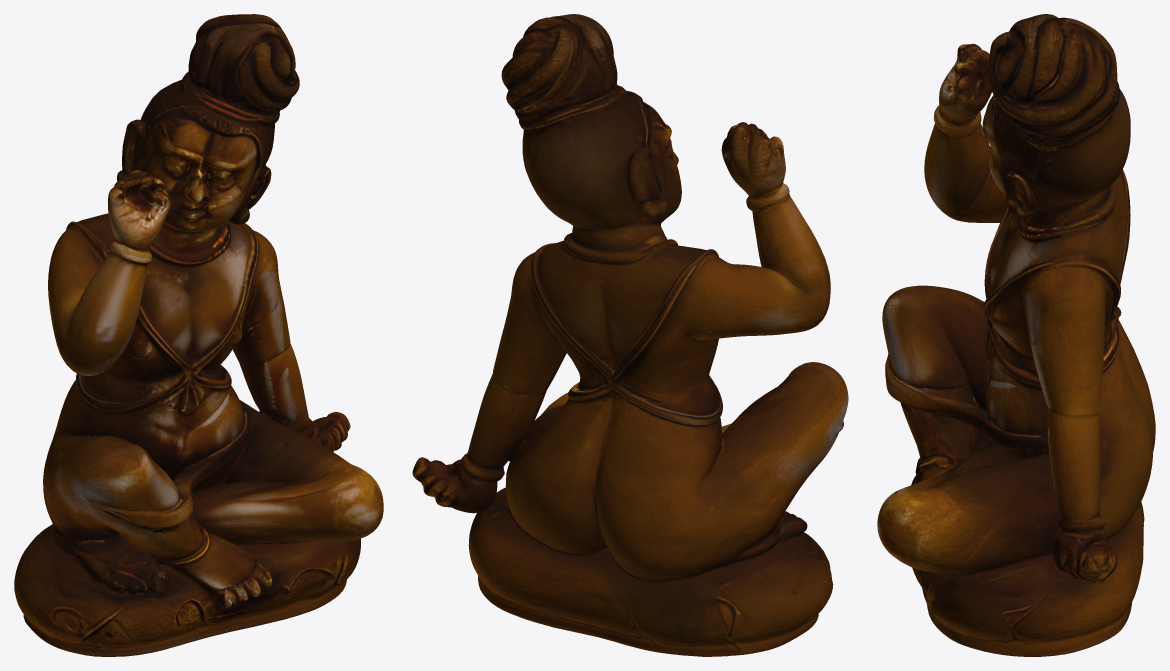
3 views of the same model, side by side, from view 1: azimuth 30°, elevation 25°; view 2: azimuth 150°, elevation 25°; view 3: azimuth 270°, elevation 25° (orthographic). The views are drawn at different scales.
Visible parts, largest first — view 1: textured_mesh; view 2: textured_mesh; view 3: textured_mesh.
Part boxes in pixels (x1,y1,x2,y2): textured_mesh: [14, 14, 383, 656]; textured_mesh: [412, 14, 848, 656]; textured_mesh: [877, 14, 1155, 656].
Bounding box in the file's own units: 1.34 × 1.99 × 0.8441.
1 material, 1 textured.
